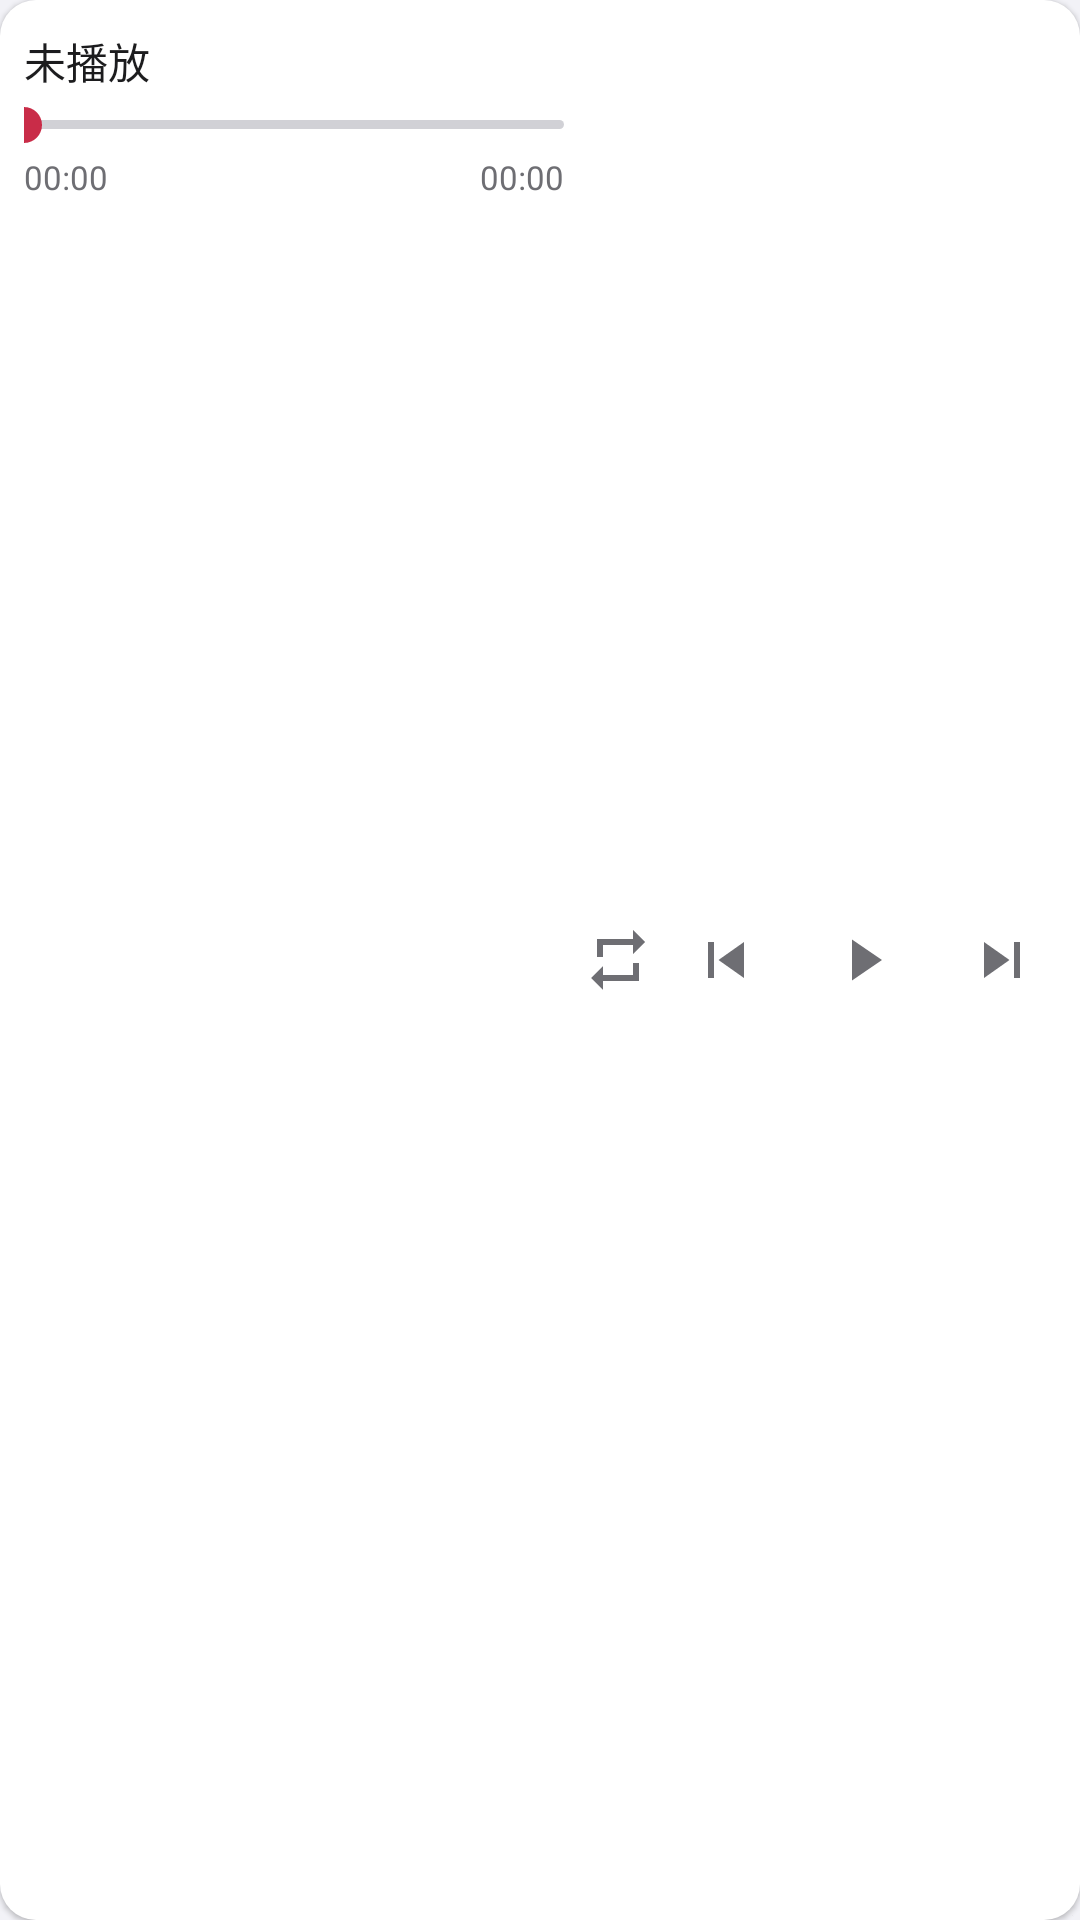

Icon click points for this 1080 × 1920 phone screenshot, format (x,y):
上一首: (726,960)
下一首: (1002,960)
播放: (867,960)
播放模式: (618,960)
